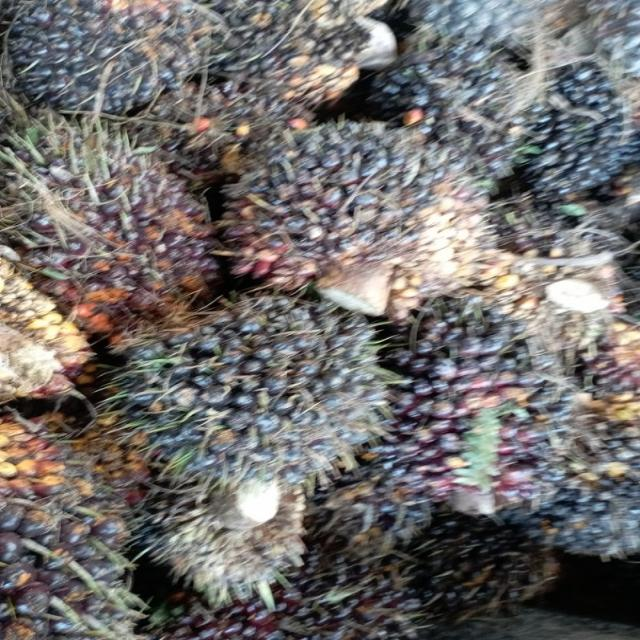fraksi 00: (85, 289, 414, 506), (215, 95, 463, 356)
